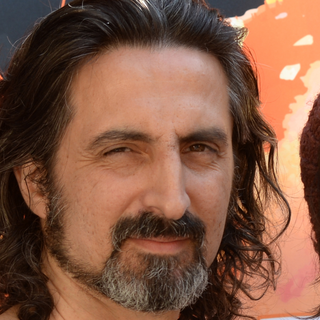eye: (93, 139, 147, 167), (172, 135, 221, 163)
